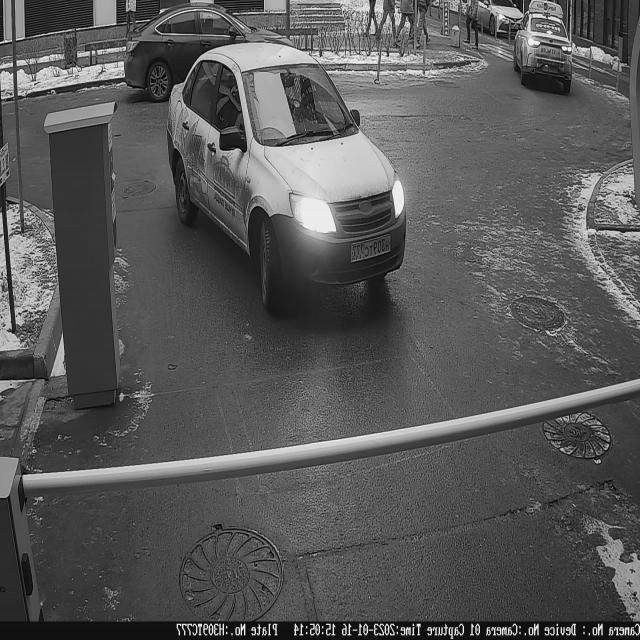car-plate-numbers: (350, 230, 394, 269)
